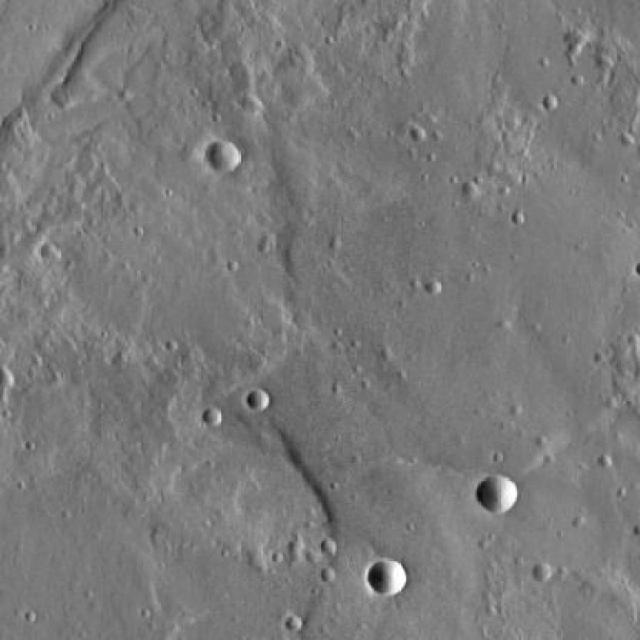crater: (479, 472, 521, 512), (371, 555, 411, 593), (208, 139, 242, 172), (252, 390, 274, 412), (0, 364, 20, 387), (206, 404, 226, 424), (532, 557, 550, 574), (282, 614, 300, 629)
